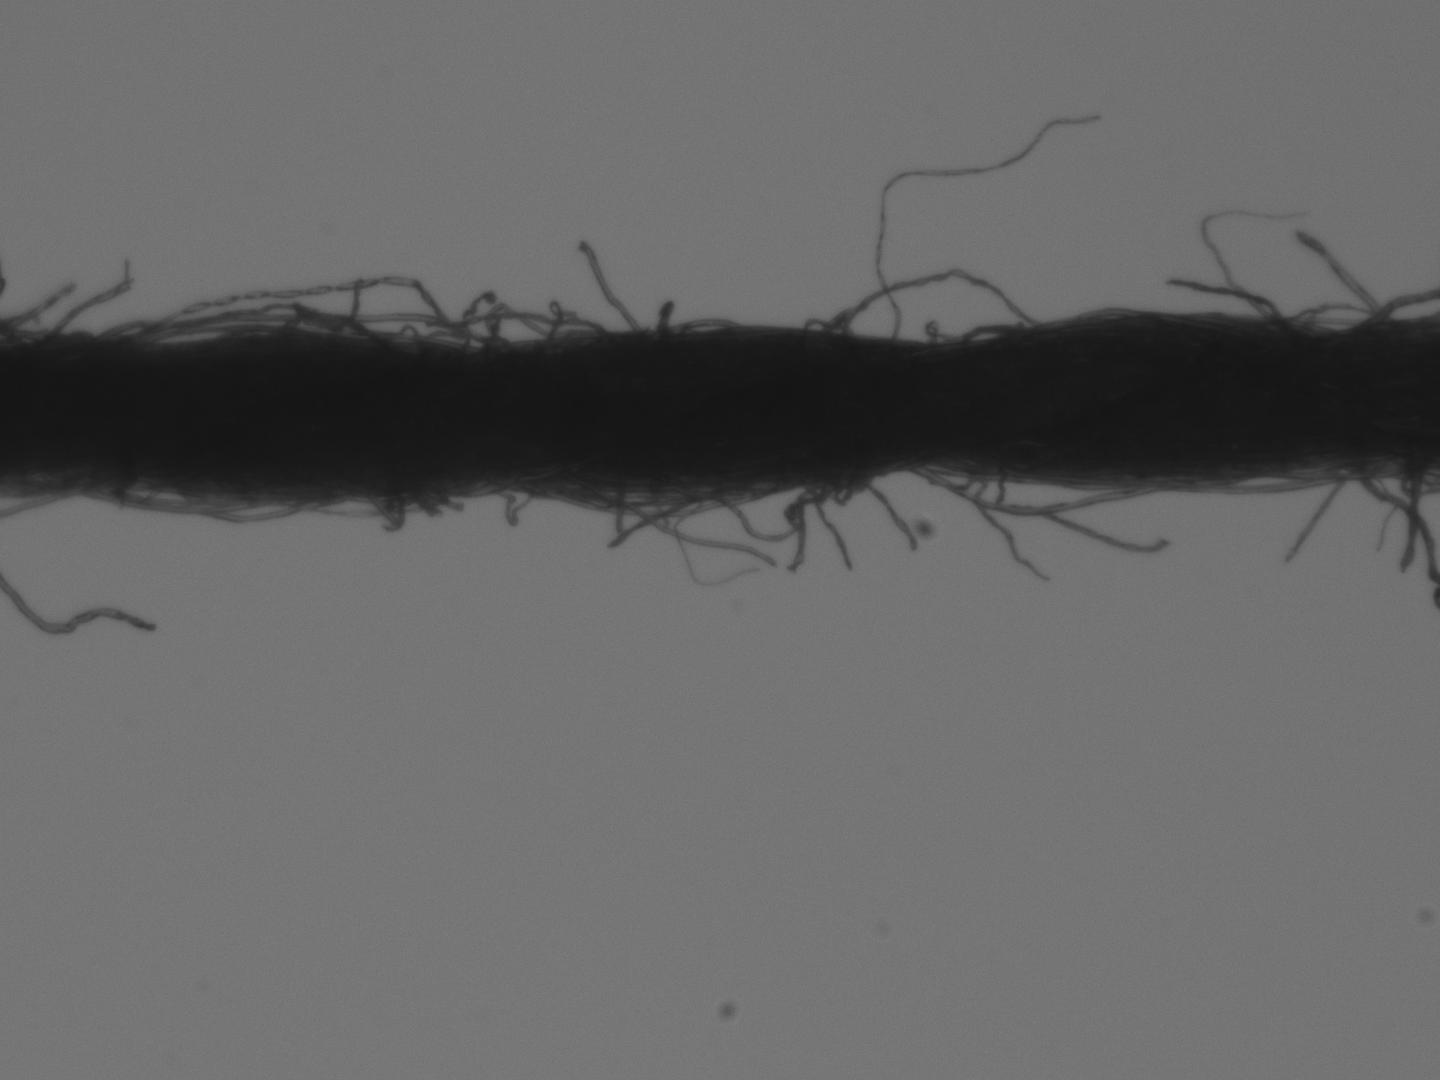loop_fiber: (164, 272, 594, 352), (108, 304, 506, 352), (823, 270, 1039, 347), (906, 465, 1172, 518), (553, 481, 776, 514), (223, 307, 382, 347), (1177, 467, 1374, 497), (112, 481, 251, 514), (1271, 299, 1384, 334), (285, 492, 433, 517), (184, 492, 308, 522), (820, 471, 871, 505), (144, 329, 240, 346), (914, 464, 977, 489), (958, 324, 1023, 347), (659, 321, 729, 338), (90, 488, 154, 504), (1404, 466, 1439, 492), (803, 315, 846, 332)
protruding_fiber: (875, 115, 1095, 339), (2, 581, 158, 636), (41, 262, 135, 337), (1280, 473, 1344, 566), (1170, 277, 1287, 324), (581, 243, 638, 331), (812, 487, 857, 571), (1398, 469, 1429, 573), (7, 286, 74, 327)
